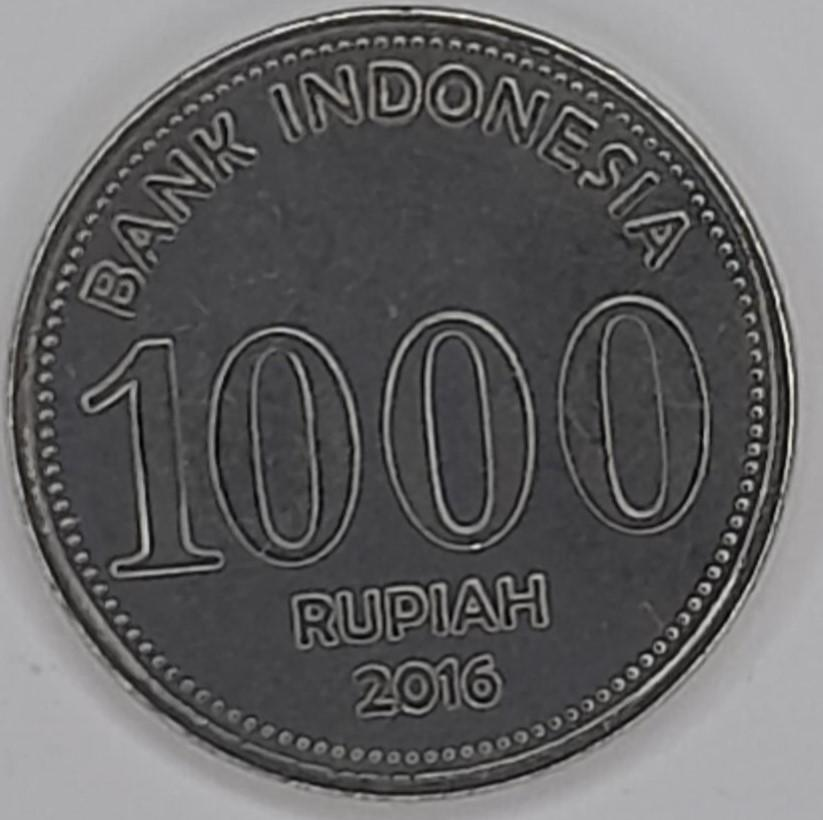coin_1000_e2016: (14, 16, 812, 820)
